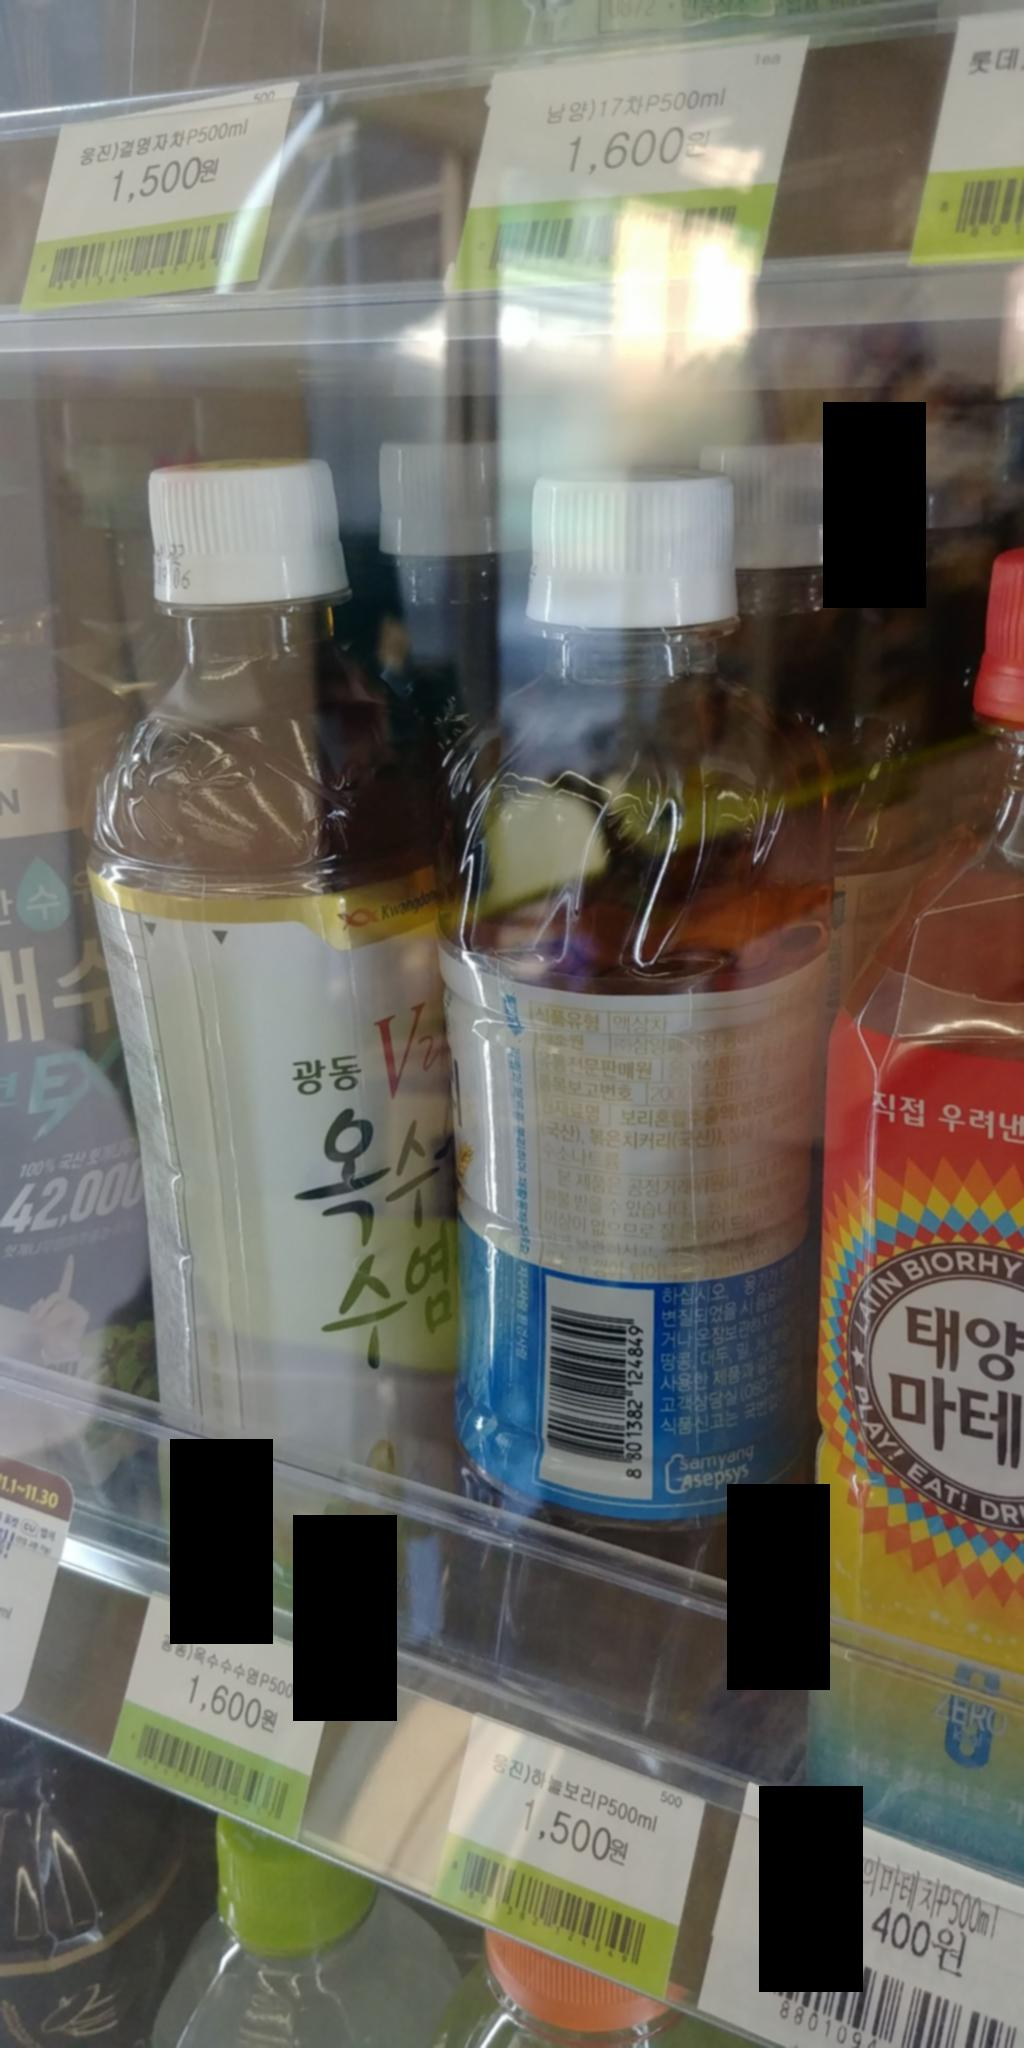haneulbori: (438, 443, 871, 1740)
oksususuyeomcha: (65, 418, 519, 1638)
